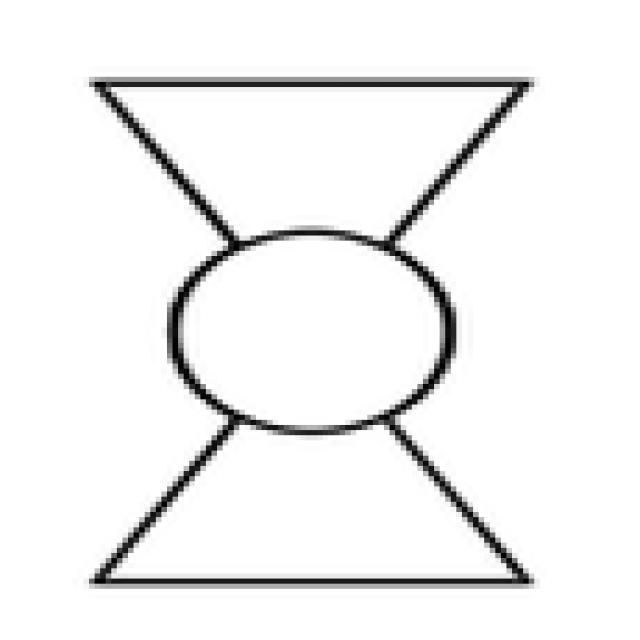ball valve: (93, 83, 530, 583)
